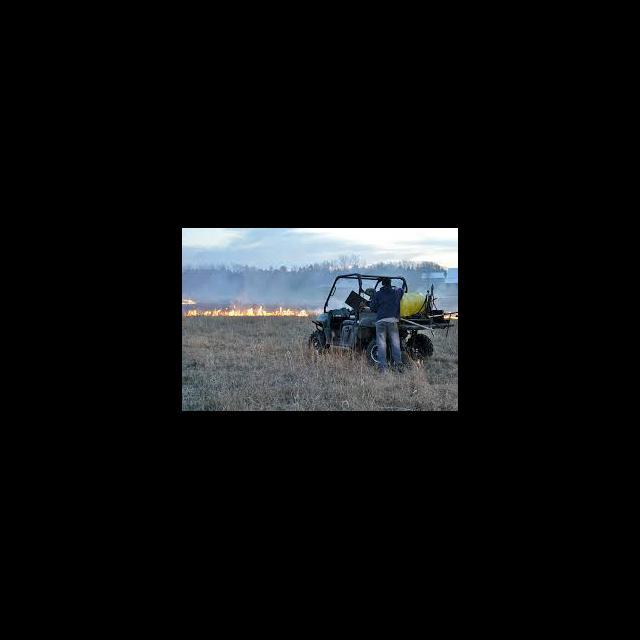Fire: (182, 305, 319, 319)
Smoke: (195, 262, 323, 304), (324, 260, 406, 274), (436, 272, 456, 310), (410, 264, 428, 291), (339, 284, 348, 296)
